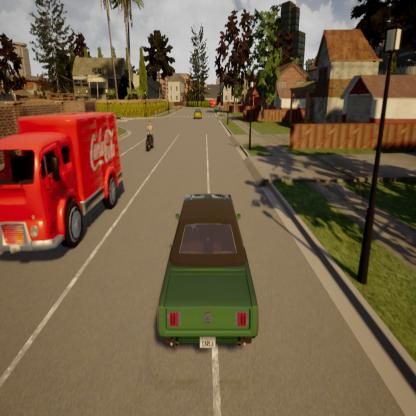Cars: (0, 100, 127, 273), (148, 184, 263, 362), (192, 108, 203, 122)
